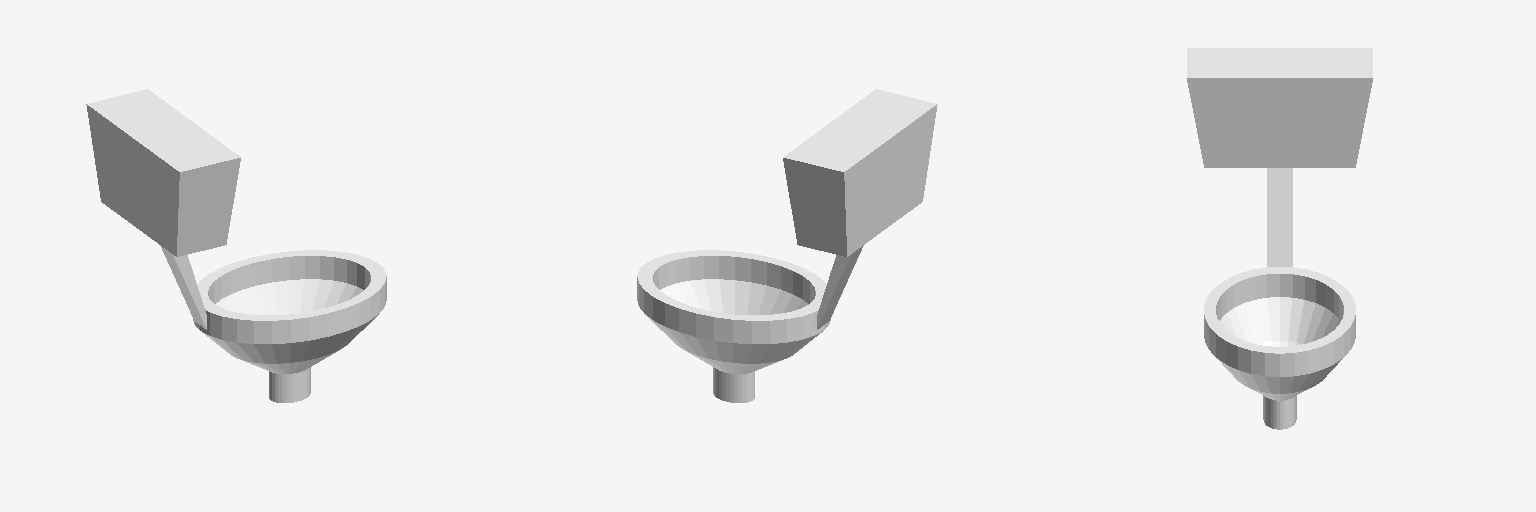
Rendered from toilet.obj.
3 views of the same model, side by side, from view 1: azimuth 30°, elevation 25°; view 2: azimuth 150°, elevation 25°; view 3: azimuth 270°, elevation 25° (orthographic).
Visible parts, largest first — view 1: Circle; view 2: Circle; view 3: Circle.
Part boxes in pixels (left/top/right/bottom): Circle: left=86, top=89, right=386, bottom=402; Circle: left=637, top=89, right=937, bottom=402; Circle: left=1187, top=48, right=1372, bottom=429.
Bounding box in the file's own units: 1.17 × 1.34 × 0.7684.